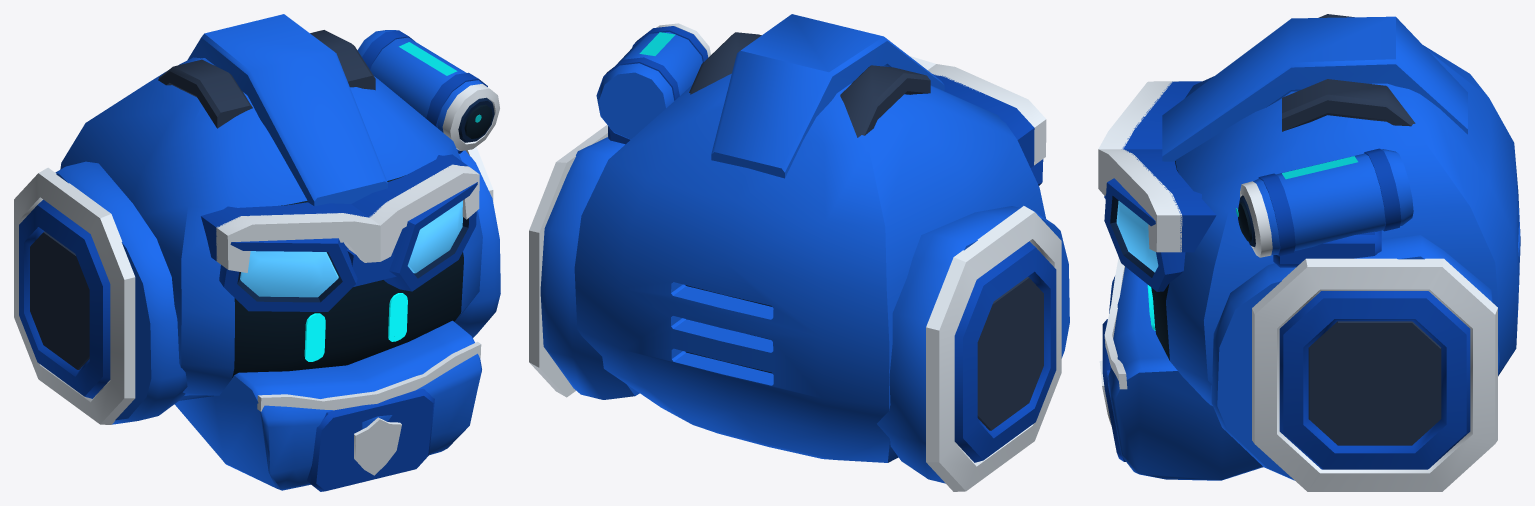
The model's file is copilot_security_v01.glb.
The picture shows the model from 3 angles, left to right: view 1: azimuth 30°, elevation 25°; view 2: azimuth 150°, elevation 25°; view 3: azimuth 270°, elevation 25°; orthographic projection. The views are drawn at different scales.
Parts seen in each view (by area): view 1: security_model; view 2: security_model; view 3: security_model.
Boxes of the visible parts, x1,y1,x2,y2 form: security_model: (14,14,500,491); security_model: (529,14,1069,491); security_model: (1098,14,1520,491).
Bounding box in the file's own units: 2.61 × 2.34 × 2.23.
Materials: 2 (2 with a texture image).
